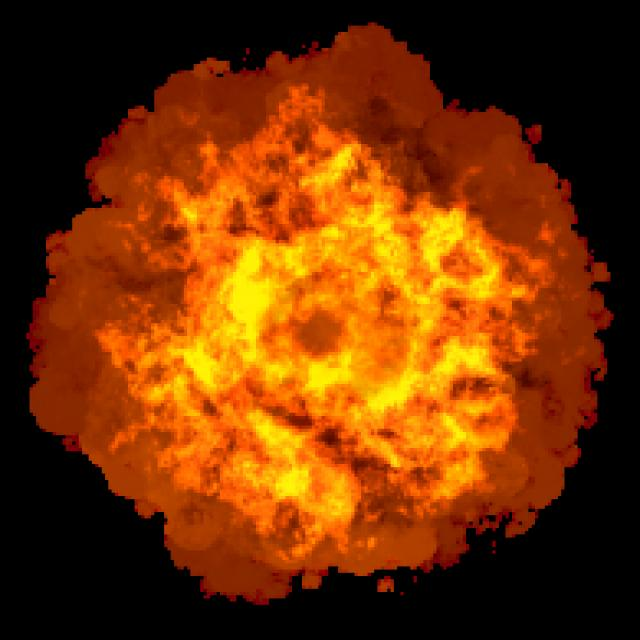fire: (41, 0, 615, 551)
